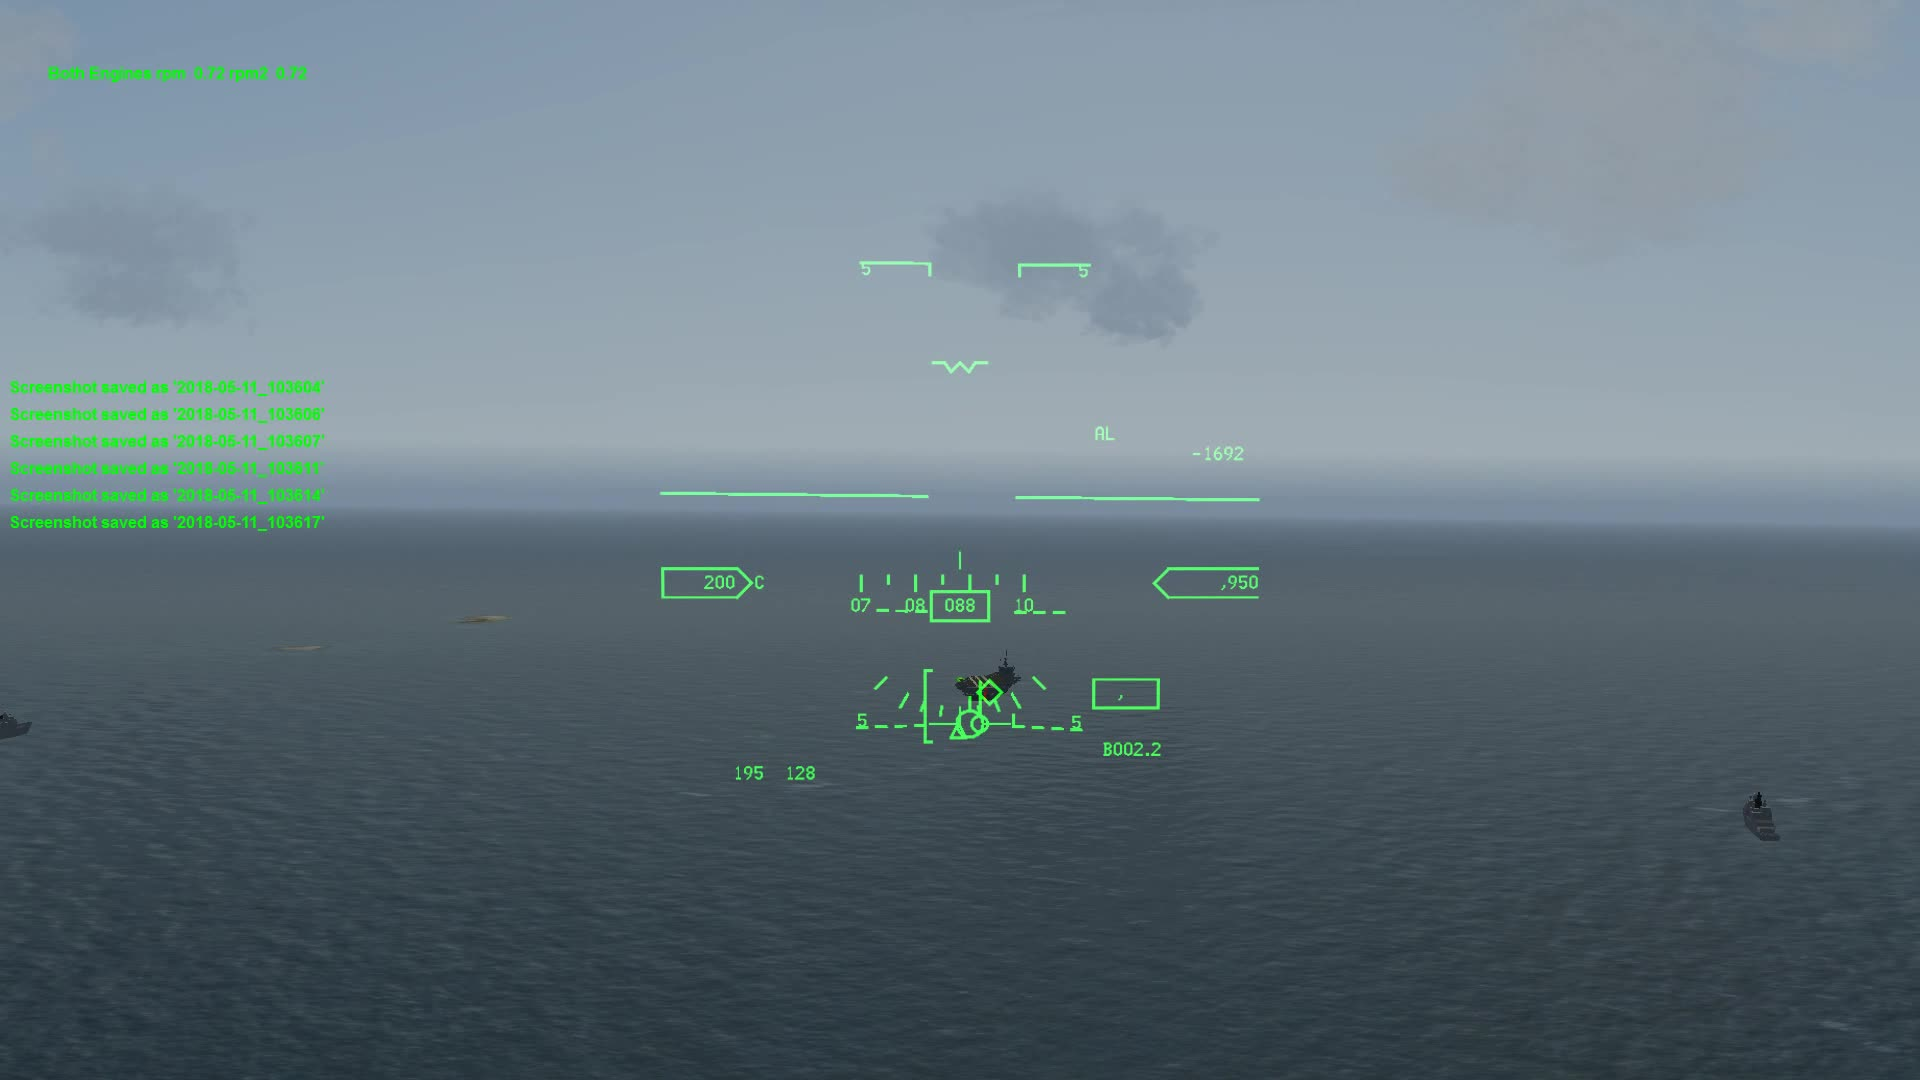speed vector: (924, 698, 1025, 738)
